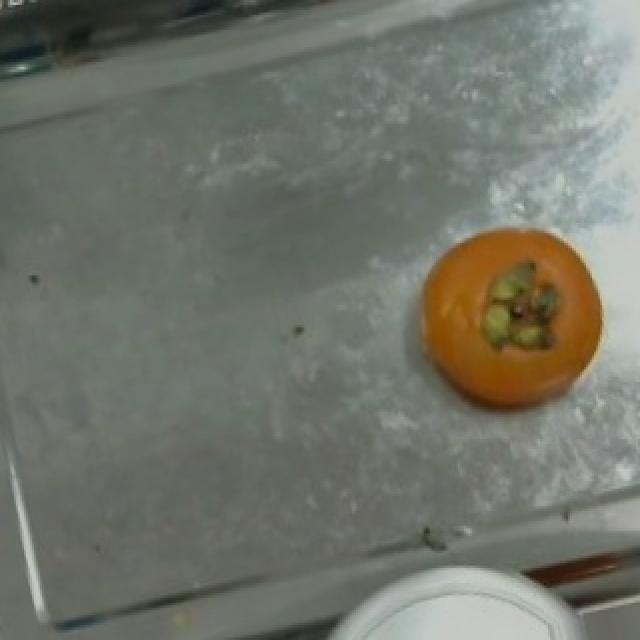Fruit: (394, 208, 634, 434)
